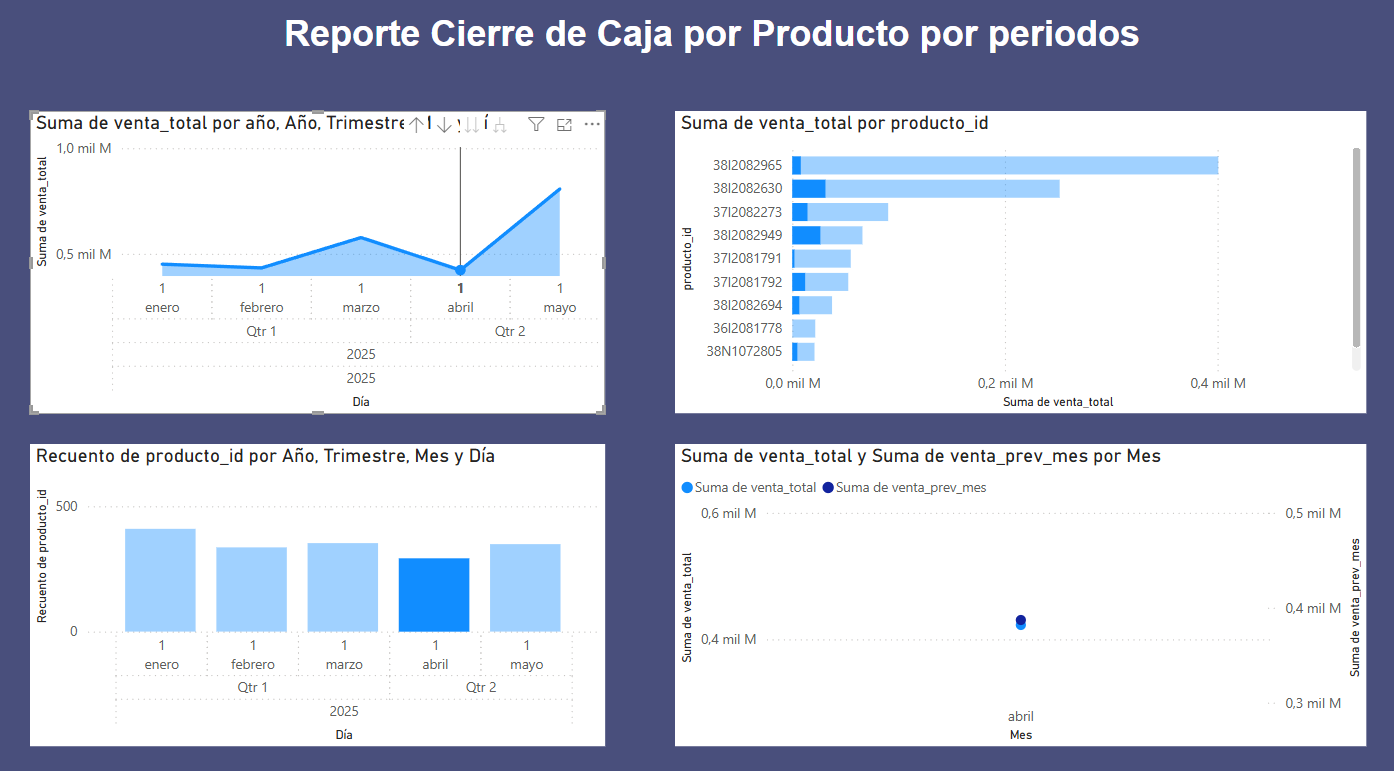

What the dashboard file says about the page in this screenshot:
{"tool":"powerbi","page":{"name":"Página 4","canvas":[1280,720],"ordinal":1},"visuals":[{"type":"areaChart","fields":{"Category":["kpi4_ventas_producto_mes.año","kpi4_ventas_producto_mes.Fecha Completa.Variación.Jerarquía de fechas.Año","kpi4_ventas_producto_mes.Fecha Completa.Variación.Jerarquía de fechas.Trimestre","kpi4_ventas_producto_mes.Fecha Completa.Variación.Jerarquía de fechas.Mes","kpi4_ventas_producto_mes.Fecha Completa.Variación.Jerarquía de fechas.Día"],"Y":["Sum(kpi4_ventas_producto_mes.venta_total)"]},"box":[51.7,118.3,510,268.3],"z":0},{"type":"clusteredBarChart","fields":{"Category":["kpi4_ventas_producto_mes.producto_id"],"Y":["Sum(kpi4_ventas_producto_mes.venta_total)"]},"box":[623.3,118.3,613.3,268.3],"z":1000},{"type":"clusteredColumnChart","fields":{"Category":["kpi4_ventas_producto_mes.Fecha Completa.Variación.Jerarquía de fechas.Año","kpi4_ventas_producto_mes.Fecha Completa.Variación.Jerarquía de fechas.Trimestre","kpi4_ventas_producto_mes.Fecha Completa.Variación.Jerarquía de fechas.Mes","kpi4_ventas_producto_mes.Fecha Completa.Variación.Jerarquía de fechas.Día"],"Y":["CountNonNull(kpi4_ventas_producto_mes.producto_id)"]},"box":[51.7,413.3,510,268.3],"z":2000},{"type":"lineChart","fields":{"Category":["kpi4_ventas_producto_mes.Fecha Completa.Variación.Jerarquía de fechas.Mes","kpi4_ventas_producto_mes.Fecha Completa.Variación.Jerarquía de fechas.Día"],"Y":["Sum(kpi4_ventas_producto_mes.venta_total)"],"Y2":["Sum(kpi4_ventas_producto_mes.venta_prev_mes)"]},"box":[623.3,413.3,613.3,268.3],"z":3000},{"type":"textbox","box":[260,26.7,801.7,103.3],"z":4000}]}

Visuals, with their boxes in screenshot pixels (x1, y1, x2, y2), scaled from the page's 1280x720 canvas onto the 1394x771 screenshot:
areaChart - kpi4_ventas_producto_mes.año x kpi4_ventas_producto_mes.Fecha Completa.Variación.Jerarquía de fechas.Año: l=56, t=127, r=612, b=414
clusteredBarChart - kpi4_ventas_producto_mes.producto_id x Sum(kpi4_ventas_producto_mes.venta_total): l=679, t=127, r=1347, b=414
clusteredColumnChart - kpi4_ventas_producto_mes.Fecha Completa.Variación.Jerarquía de fechas.Año x kpi4_ventas_producto_mes.Fecha Completa.Variación.Jerarquía de fechas.Trimestre: l=56, t=443, r=612, b=730
lineChart - kpi4_ventas_producto_mes.Fecha Completa.Variación.Jerarquía de fechas.Mes x kpi4_ventas_producto_mes.Fecha Completa.Variación.Jerarquía de fechas.Día: l=679, t=443, r=1347, b=730
textbox: l=283, t=29, r=1156, b=139
